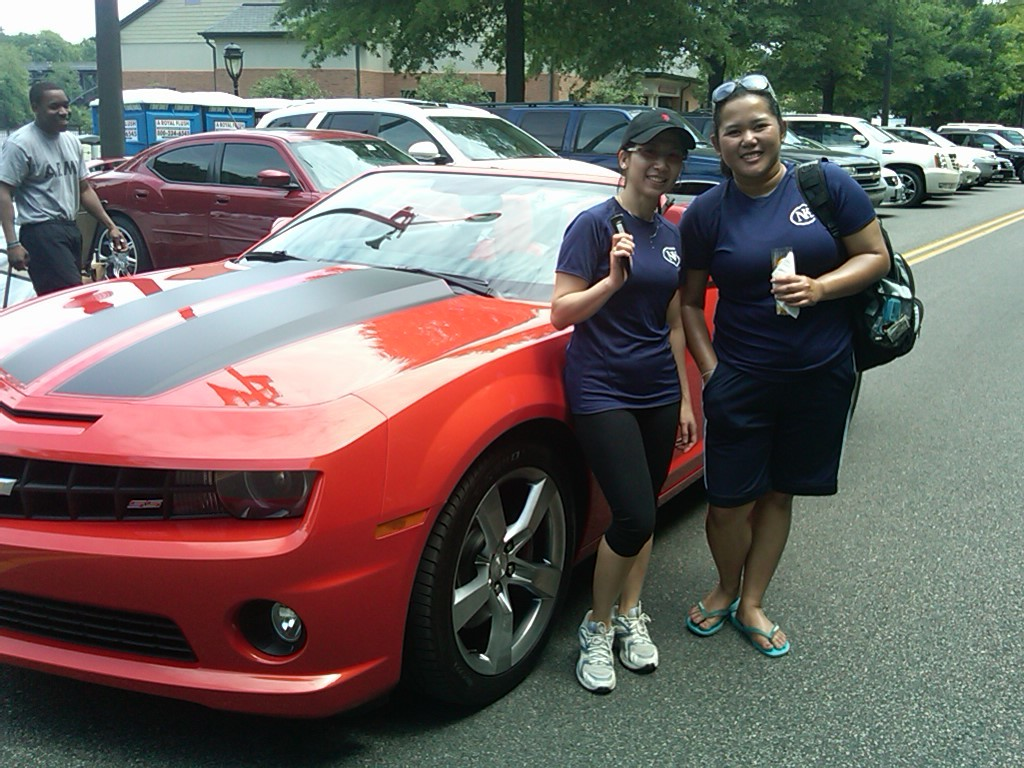cars: (0, 150, 711, 732), (467, 101, 1022, 206), (83, 109, 417, 279), (256, 98, 560, 164)
